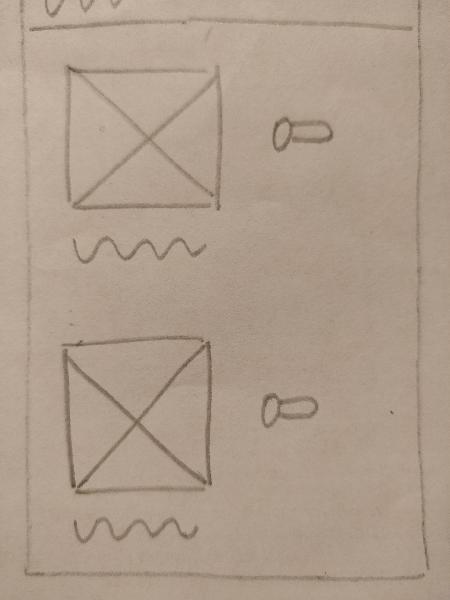image: (56, 55, 225, 221), (51, 329, 220, 495)
switch: (261, 108, 344, 157), (245, 381, 328, 430)
text: (65, 230, 207, 271), (64, 506, 206, 547)
